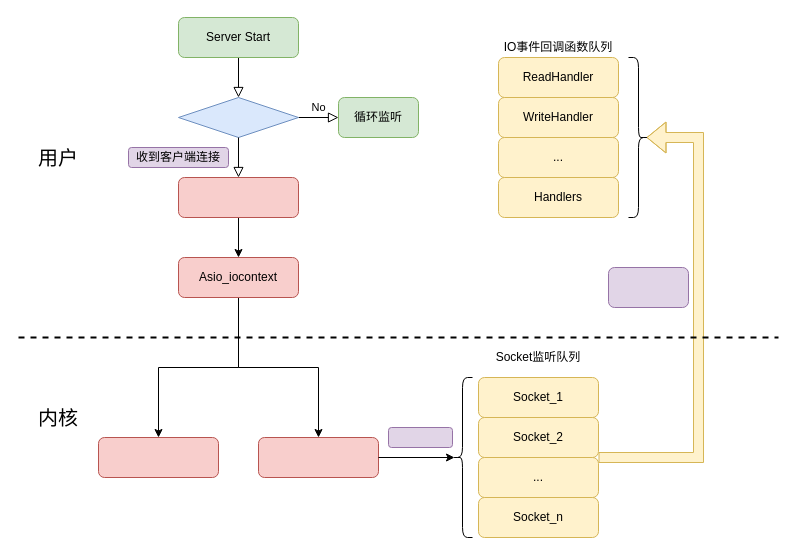
Image size: 797x555. Some labels were removed from this diagram. The centre of each missing label's shape, as x and y in pixels:
"Linux-Epoll" goes at (x=158, y=457).
"Socket 触发IO事件" goes at (x=648, y=287).
"Windows-Iocp" goes at (x=318, y=457).
"创建Session连接" goes at (x=238, y=197).
"监听事件" goes at (x=238, y=117).
"轮询监听" goes at (x=420, y=437).
